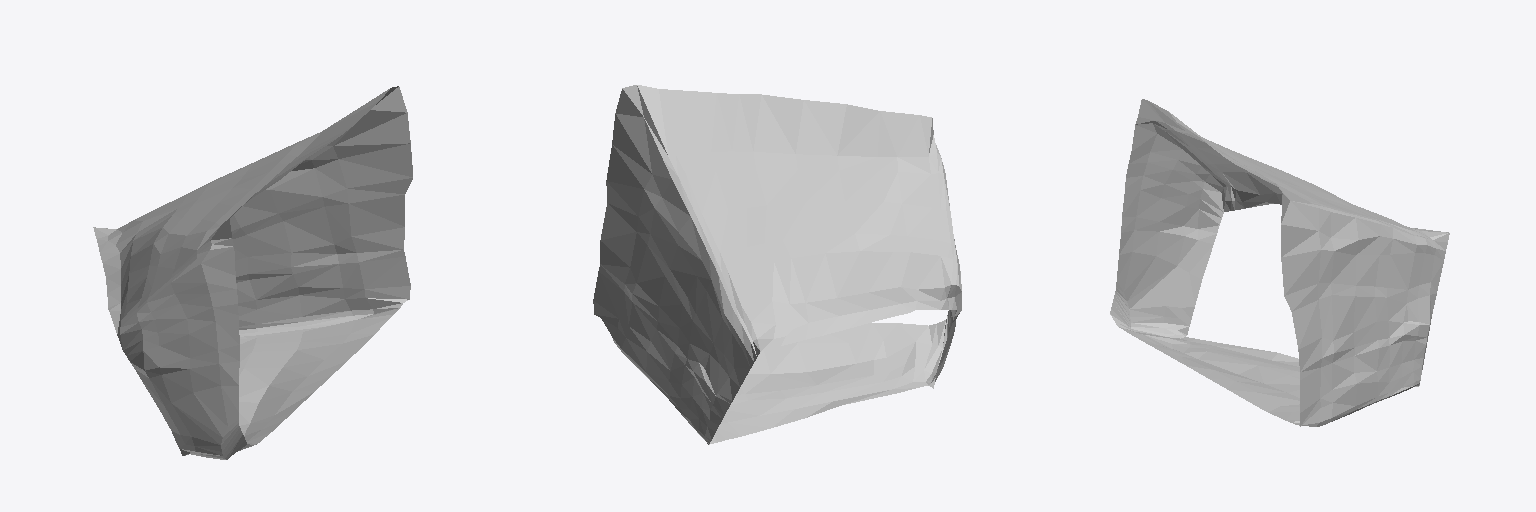
Rendered from Env8_UVlow.obj.
The picture shows the model from 3 angles: view 1: azimuth 30°, elevation 25°; view 2: azimuth 150°, elevation 25°; view 3: azimuth 270°, elevation 25°; orthographic projection.
Parts seen in each view (by area): view 1: Env7_UVlow10:Mesh group; view 2: Env7_UVlow10:Mesh group; view 3: Env7_UVlow10:Mesh group.
Boxes of the visible parts, x1=… form: Env7_UVlow10:Mesh group: x1=93, y1=86, x2=412, y2=459; Env7_UVlow10:Mesh group: x1=593, y1=85, x2=961, y2=444; Env7_UVlow10:Mesh group: x1=1110, y1=99, x2=1449, y2=426.
Size of the model in its own units: 27.17 by 21.64 by 24.27.